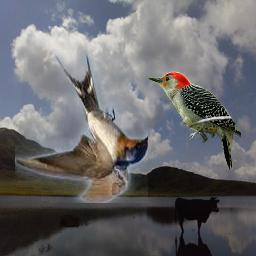Swallow: (16, 49, 149, 203)
Woodpecker: (149, 72, 242, 171)
